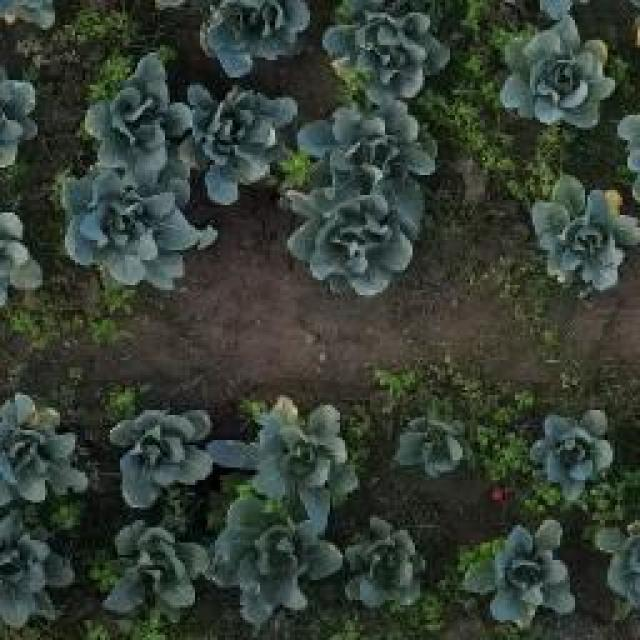cabbage: (64, 171, 214, 293), (224, 392, 364, 512), (288, 175, 424, 293), (212, 510, 347, 616), (465, 510, 575, 634), (501, 21, 617, 135), (291, 95, 444, 180), (529, 170, 639, 284), (322, 9, 454, 102), (178, 81, 289, 191), (78, 54, 184, 169), (97, 521, 212, 623), (105, 401, 213, 505), (0, 515, 78, 632), (0, 388, 75, 506), (531, 405, 623, 498), (345, 519, 436, 612), (192, 0, 312, 70), (392, 406, 470, 484)
